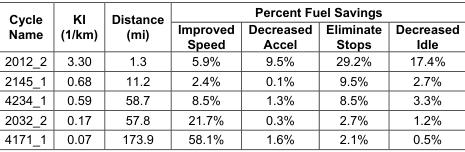table: (3, 4, 458, 146)
table column: (240, 4, 318, 146), (387, 4, 458, 146), (170, 4, 240, 146), (318, 4, 387, 146), (103, 4, 170, 146), (52, 4, 103, 146), (3, 4, 52, 146)
table column header: (3, 4, 458, 52)
table row: (3, 20, 458, 52), (3, 70, 458, 90), (3, 109, 458, 129), (3, 90, 458, 109), (3, 52, 458, 70), (3, 129, 458, 146), (3, 4, 458, 20)
table spanning cell: (170, 4, 458, 20), (103, 4, 170, 52), (52, 4, 103, 52), (3, 4, 52, 52)
